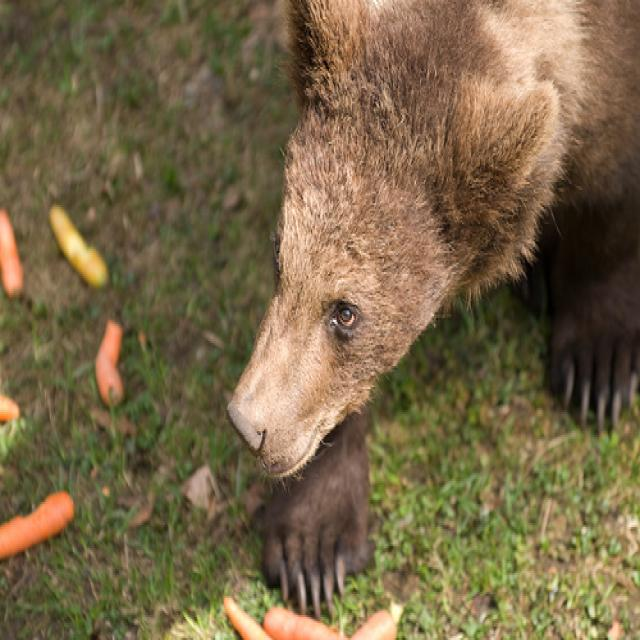Bear: (251, 0, 640, 610)
